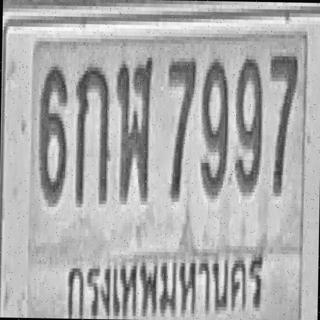A01: (74, 63, 110, 204)
A42: (114, 53, 152, 201)
N06: (38, 63, 68, 203)
N07: (165, 54, 196, 198), (268, 51, 298, 195)
N09: (200, 55, 229, 195), (234, 55, 263, 192)
P04: (61, 242, 268, 320)
